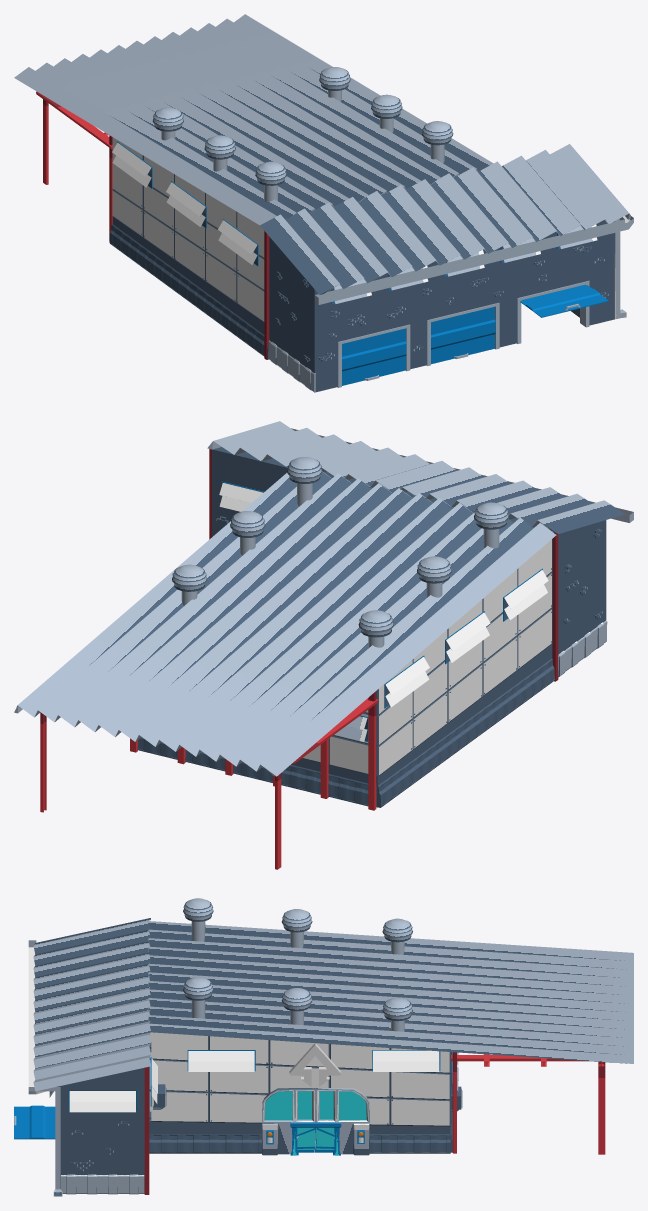
The model's file is Central_Afuera.fbx.
The picture shows the model from 3 angles, top to bottom: view 1: azimuth 30°, elevation 25°; view 2: azimuth 150°, elevation 25°; view 3: azimuth 270°, elevation 25°; orthographic projection. The views are drawn at different scales.
Parts seen in each view (by area): view 1: Plane.004, Plane.005, Cube.075, Plane.001, Cube.060, Cube.004, Plane.010, Plane.006, Plane.011, Cube.091, Cube.278, Cube.276 (+13 smaller); view 2: Plane.004, Plane.001, Plane.005, Cube.075, Cube.004, Cube.003, Cube.027, Cube.028, Cube.276, Cube.277, Cube.278, Cube.029 (+9 smaller); view 3: Plane.004, Plane.001, Plane.005, Cube.075, Cube.024, Cube.267, Cube.060, Cube.077, Cube.002, Cube.092, Cube.095, Cube.096 (+15 smaller).
Part boxes in pixels (x1,y1,x2,y2): Plane.004: (14,14,493,225); Plane.005: (260,144,630,294); Cube.075: (269,220,614,392); Plane.001: (112,137,455,334); Cube.060: (314,216,633,319); Cube.004: (109,224,269,359); Plane.010: (431,306,495,364); Plane.006: (342,328,406,385); Plane.011: (520,285,608,317); Cube.091: (331,224,597,304); Cube.278: (218,219,258,266); Cube.276: (112,141,152,188); Plane.004: (14,471,556,776); Plane.001: (291,539,552,807); Plane.005: (207,421,624,533); Cube.075: (212,447,606,663); Cube.004: (377,658,558,807); Cube.003: (137,737,376,806); Cube.027: (130,691,376,810); Cube.028: (40,712,281,869); Cube.276: (384,655,429,708); Cube.277: (444,611,490,664); Cube.278: (502,568,548,621); Cube.029: (209,448,558,681); Plane.004: (148,921,633,1063); Plane.001: (149,1032,451,1140); Plane.005: (33,918,150,1091); Cube.075: (57,1067,144,1193); Cube.024: (262,1088,369,1155); Cube.267: (149,1134,261,1153); Cube.060: (28,940,62,1196); Cube.077: (61,1174,144,1194); Cube.002: (369,1134,450,1153); Cube.092: (69,1090,136,1112); Cube.095: (187,1050,255,1071); Cube.096: (372,1050,440,1071).
Size of the model in its own units: 64.39 by 32.31 by 111.
